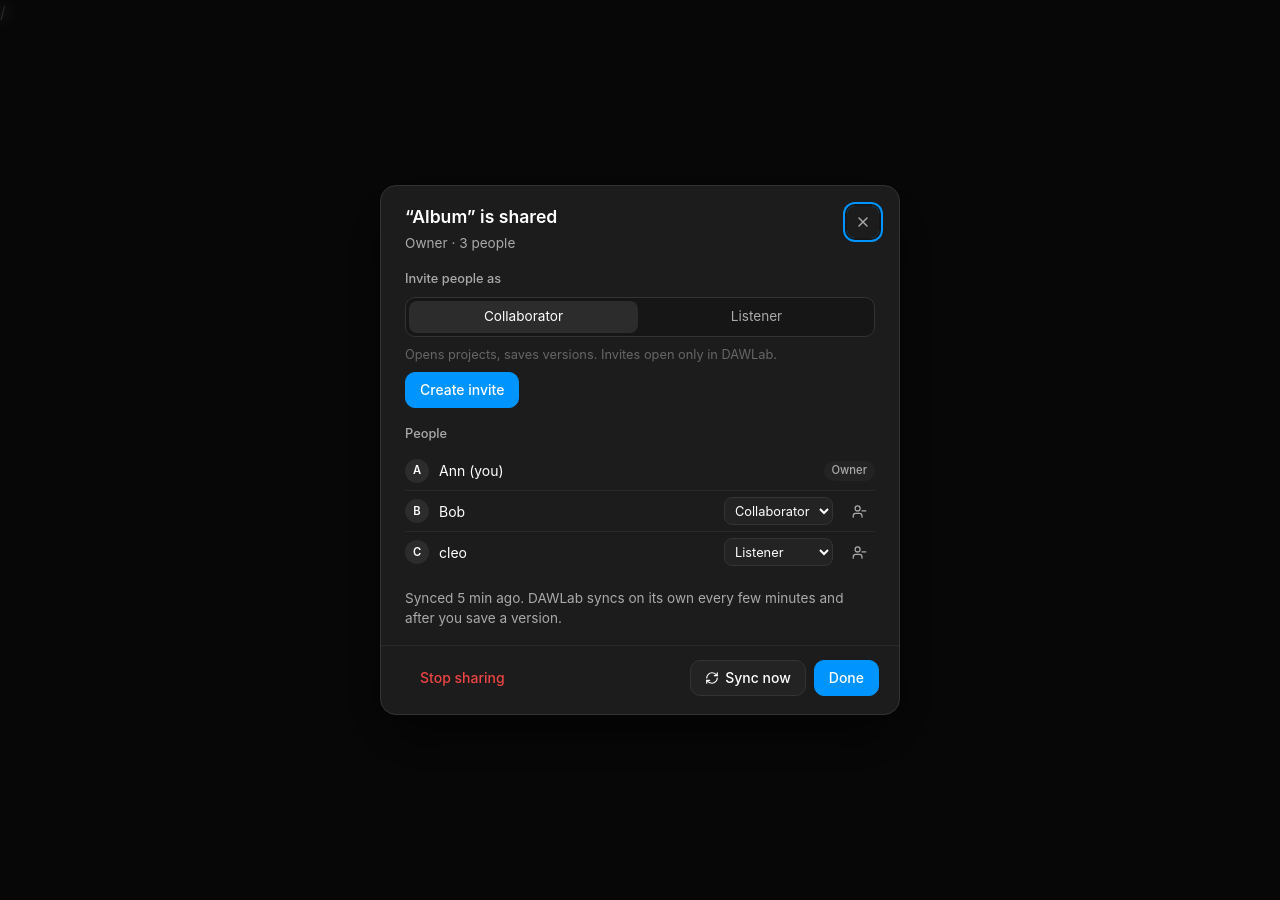
Test: ShareFolderDialog: owner › toggles the role for new people
Click the button "Listener": coordinates (756, 317) [642,301,871,333]
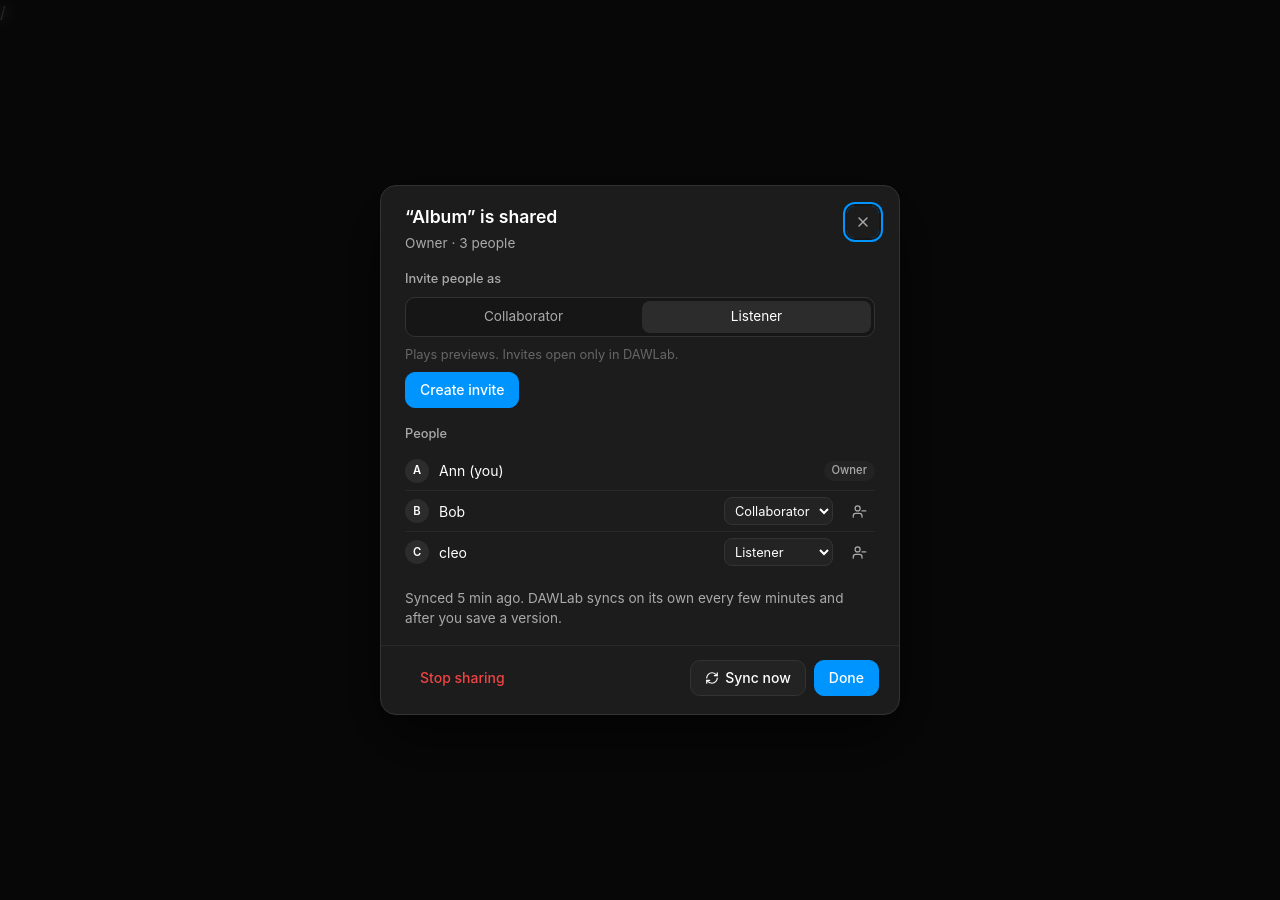
Now the text "Plays previews. Invites open only in DAWLab." is shown, box [405,347,678,362]
